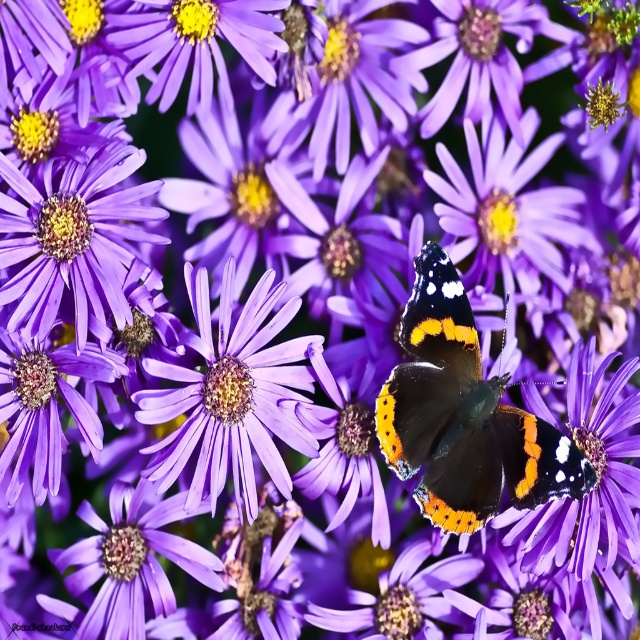Butterfly: (374, 240, 596, 535)
